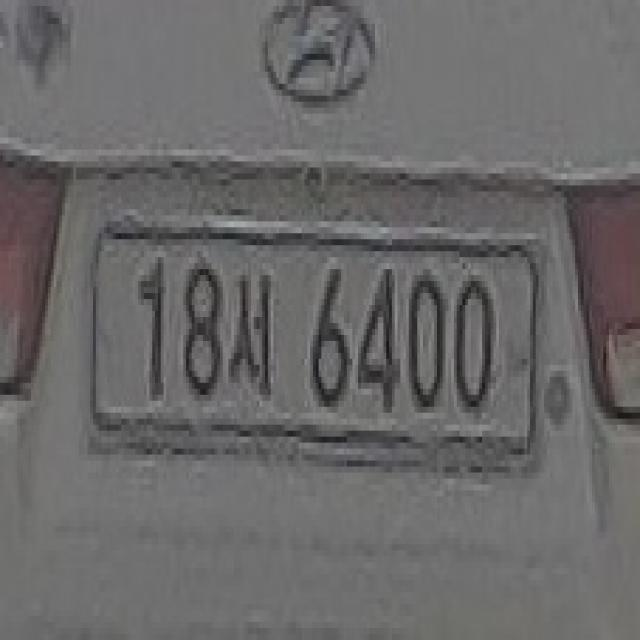0: (451, 269, 493, 425), (406, 263, 445, 425)
1: (133, 251, 169, 419)
4: (355, 263, 403, 425)
6: (310, 263, 350, 419)
8: (180, 257, 223, 407)
license_plate: (85, 222, 541, 490)
seo: (228, 263, 276, 413)
